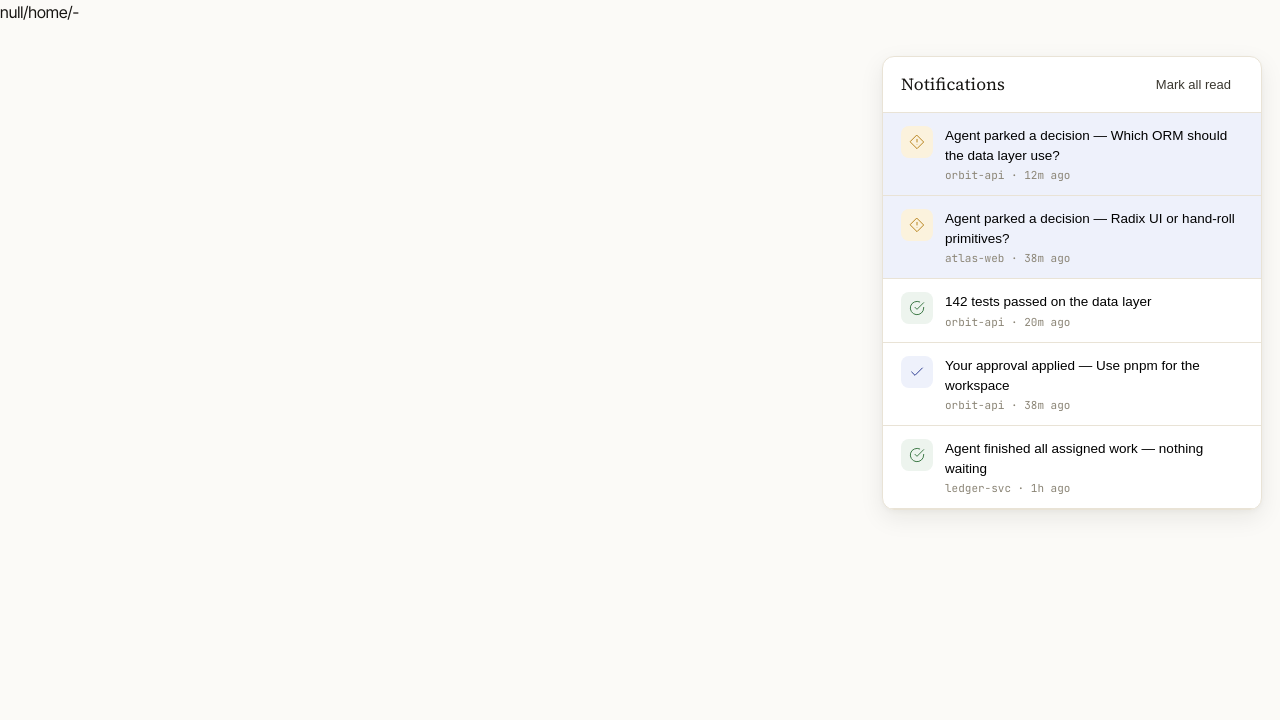
Test: NotificationsPanel › routes a decision notification to its proposal and closes
Click the button "Which ORM should the data layer use". click: [917, 142]
box: [883, 113, 1261, 196]
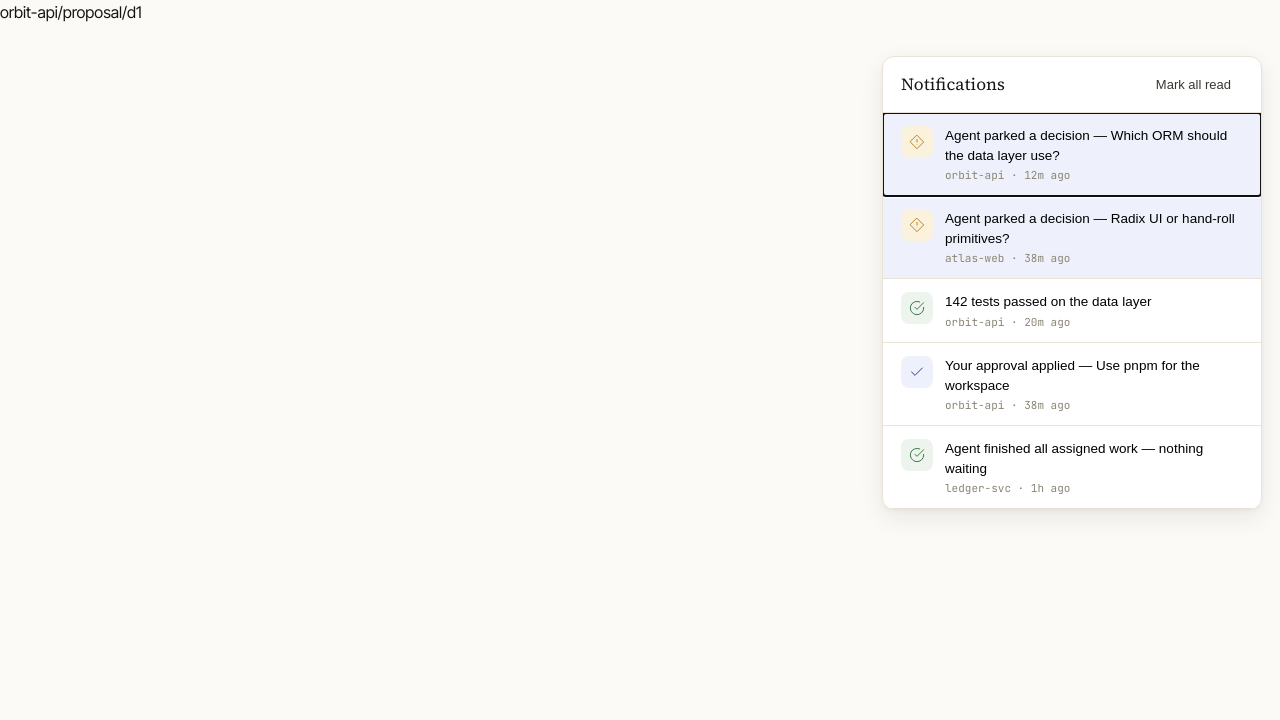
Expected: the text with test id "nav" reads "orbit-api/proposal/d1", [0, 2, 142, 22]
